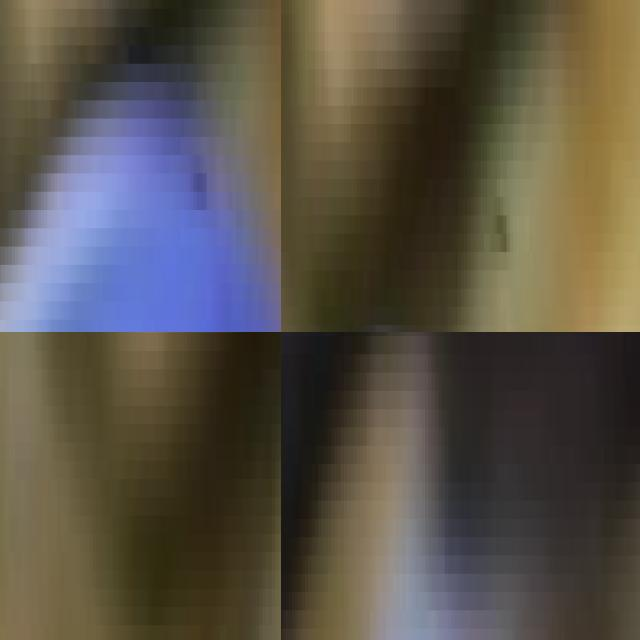fish: (281, 332, 640, 640), (0, 0, 281, 332)
